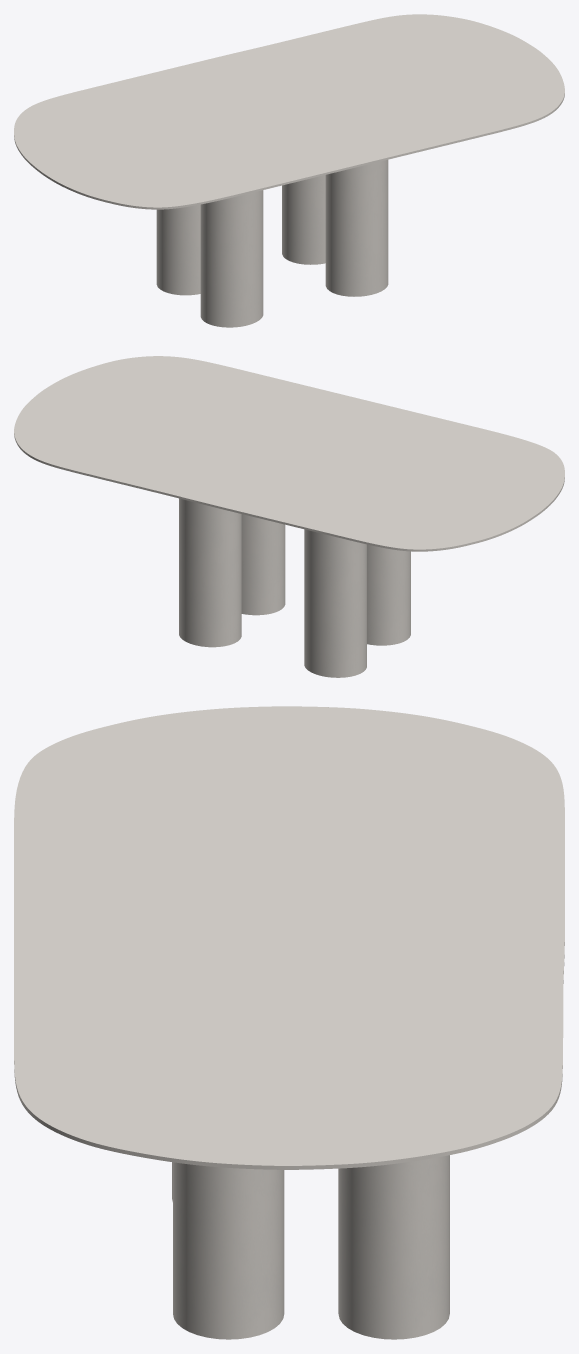
Rendered from purewhite_oval_facet_grove.glb.
The picture shows the model from 3 angles, top to bottom: view 1: azimuth 30°, elevation 25°; view 2: azimuth 150°, elevation 25°; view 3: azimuth 270°, elevation 25°; orthographic projection. The views are drawn at different scales.
Parts seen in each view (by area): view 1: facet_oval, grove; view 2: facet_oval, grove; view 3: facet_oval, grove.
Part boxes in pixels (x1=…): facet_oval: x1=14, y1=14, x2=564, y2=209; grove: x1=156, y1=159, x2=388, y2=327; facet_oval: x1=14, y1=356, x2=564, y2=551; grove: x1=179, y1=498, x2=410, y2=677; facet_oval: x1=14, y1=706, x2=564, y2=1169; grove: x1=172, y1=1155, x2=449, y2=1339.
Bounding box in the file's own units: 7.5 × 2.51 × 3.8.
Materials: 1 (1 with a texture image).
